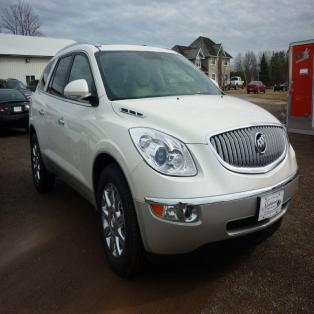Auto: (26, 40, 301, 273)
